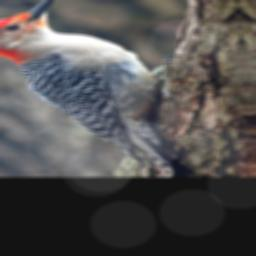Woodpecker: (0, 0, 192, 176)
